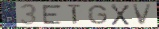3: (20, 3, 39, 26)
E: (41, 4, 64, 25)
G: (87, 4, 109, 26)
T: (67, 4, 84, 26)
V: (132, 3, 155, 26)
X: (110, 4, 131, 27)
